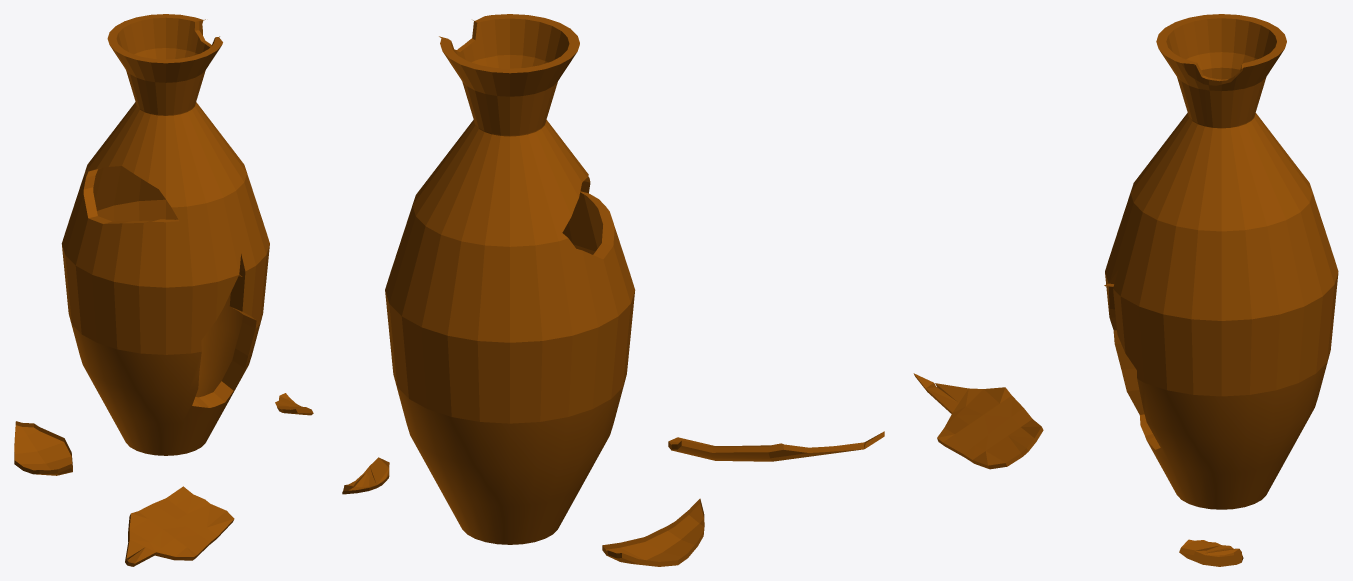
Rendered from Vase_2.FBX.
3 renders of one model, left to right at view 1: azimuth 30°, elevation 25°; view 2: azimuth 150°, elevation 25°; view 3: azimuth 270°, elevation 25°, orthographic. The views are drawn at different scales.
Parts seen in each view (by area): view 1: Cone013; view 2: Cone013; view 3: Cone013.
Part boxes in pixels (x1,y1,x2,y2): Cone013: (14, 14, 313, 566); Cone013: (342, 14, 884, 566); Cone013: (913, 14, 1338, 566).
Size of the model in its own units: 28.95 by 36.66 by 30.96.
